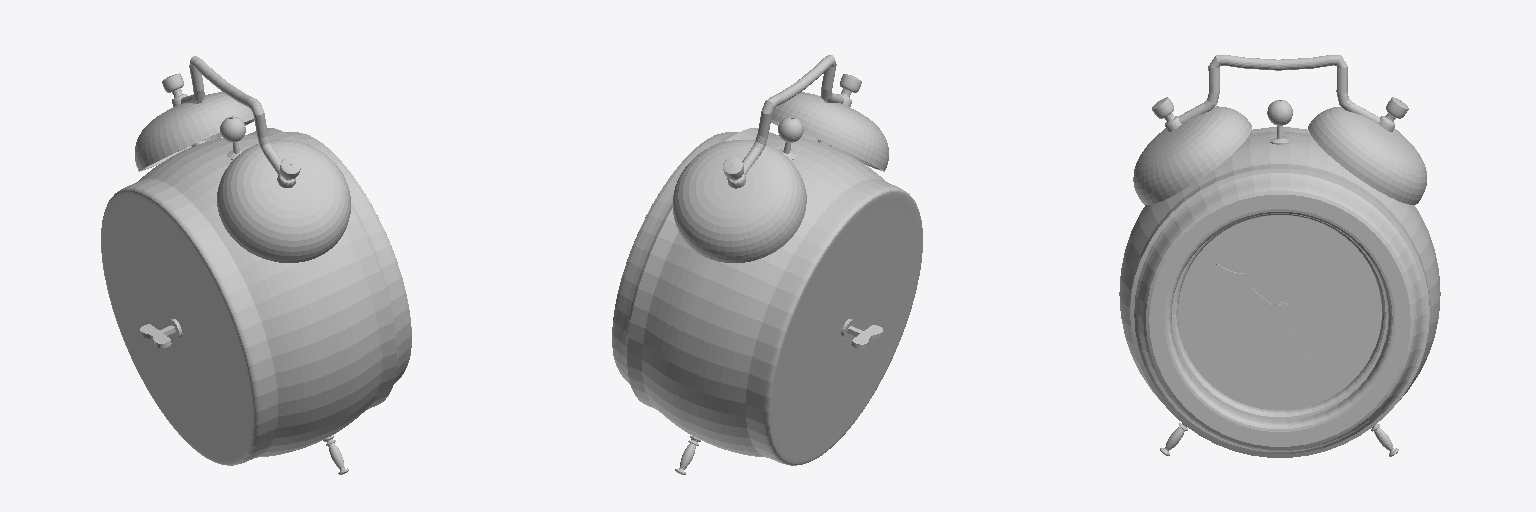
The model's file is clock_4.obj.
3 renders of one model, left to right at view 1: azimuth 30°, elevation 25°; view 2: azimuth 150°, elevation 25°; view 3: azimuth 270°, elevation 25°, orthographic.
Visible parts, largest first — view 1: Rectangle001, Sphere001, Sphere002, Loft001, Line002, Line004, Line006; view 2: Rectangle001, Sphere002, Sphere001, Loft001, Line002, Line005, Line006; view 3: Rectangle001, Object, Sphere001, Sphere002, Loft001, Arc003, Line002, Line005, Line004.
Part boxes in pixels (x1,y1,x2,y2): Rectangle001: (101,128,411,465); Sphere001: (217,140,350,262); Sphere002: (135,92,254,171); Loft001: (181,56,281,174); Line002: (220,116,245,159); Line004: (277,157,300,187); Line006: (140,324,175,348); Rectangle001: (612,128,922,465); Sphere002: (673,140,806,262); Sphere001: (771,92,888,171); Loft001: (742,55,843,174); Line002: (778,117,803,159); Line005: (723,157,745,188); Line006: (847,325,882,348); Rectangle001: (1119,127,1440,457); Object: (1178,215,1381,409); Sphere001: (1133,106,1251,204); Sphere002: (1308,107,1426,204); Loft001: (1178,55,1379,123); Arc003: (1216,264,1374,386); Line002: (1267,100,1292,144); Line005: (1379,97,1408,131); Line004: (1152,97,1181,131).
Size of the model in its own units: 92.6 by 153 by 120.